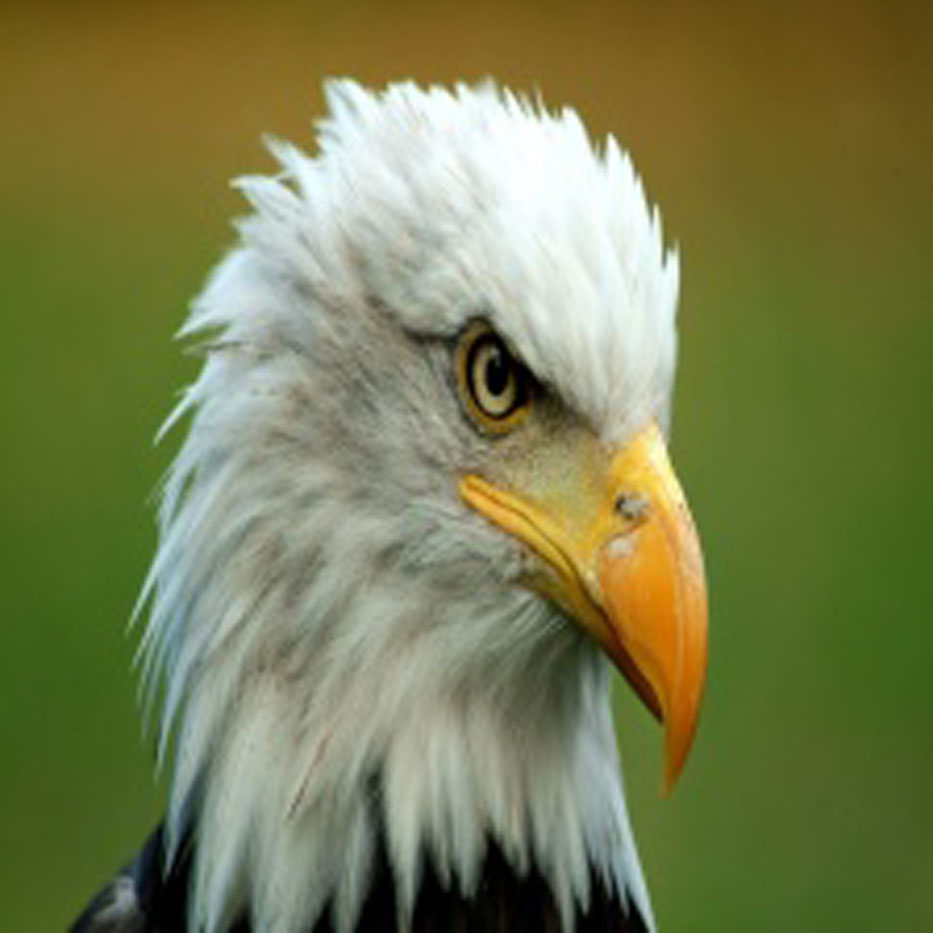Pengoyak Daging: (569, 449, 786, 812)
